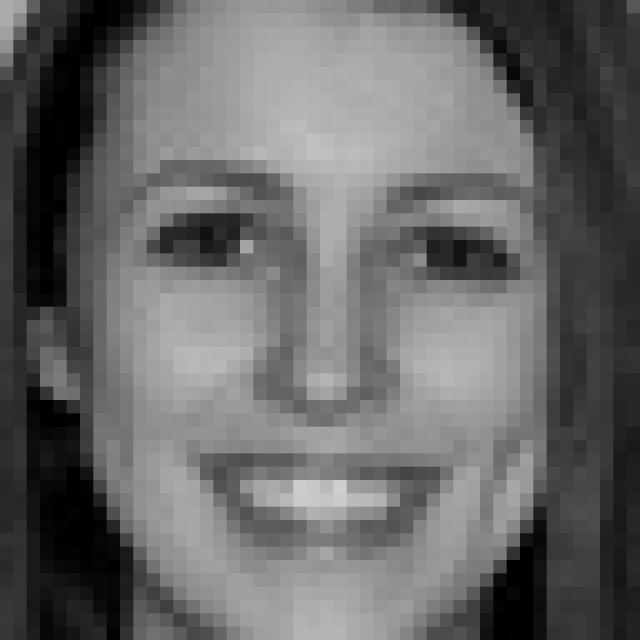happy: (114, 154, 539, 579)
